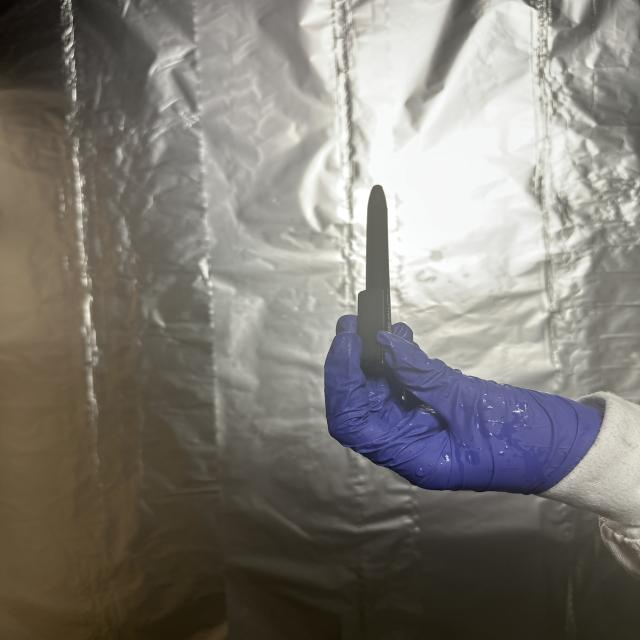gloves_contaminated: (325, 316, 604, 494)
